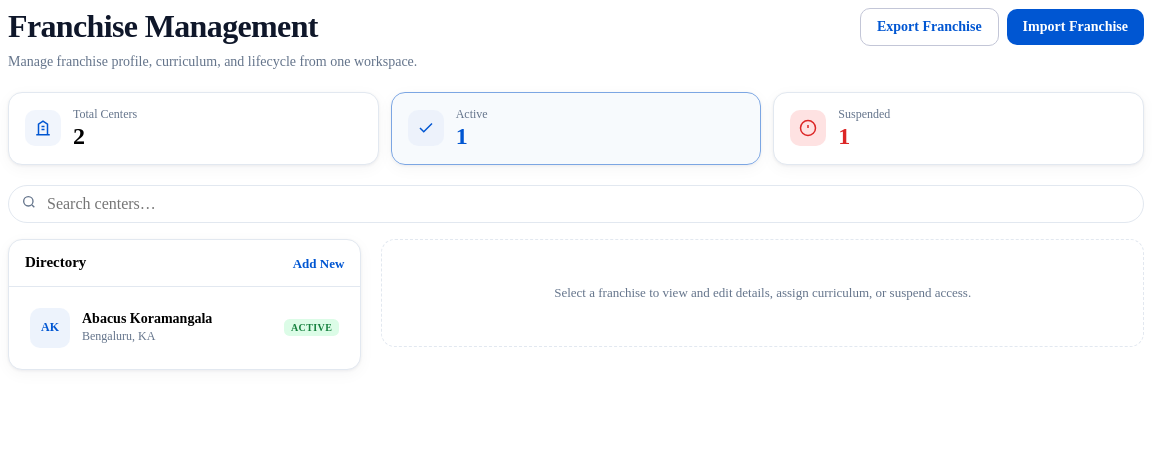
Scenario: CentersPage › regression_search_by_phone
Expected: the text "Abacus Koramangala" is shown, [82,311,212,326]
Click the button "Total Centers 2".
click(43, 128)  # box [8,92,379,165]
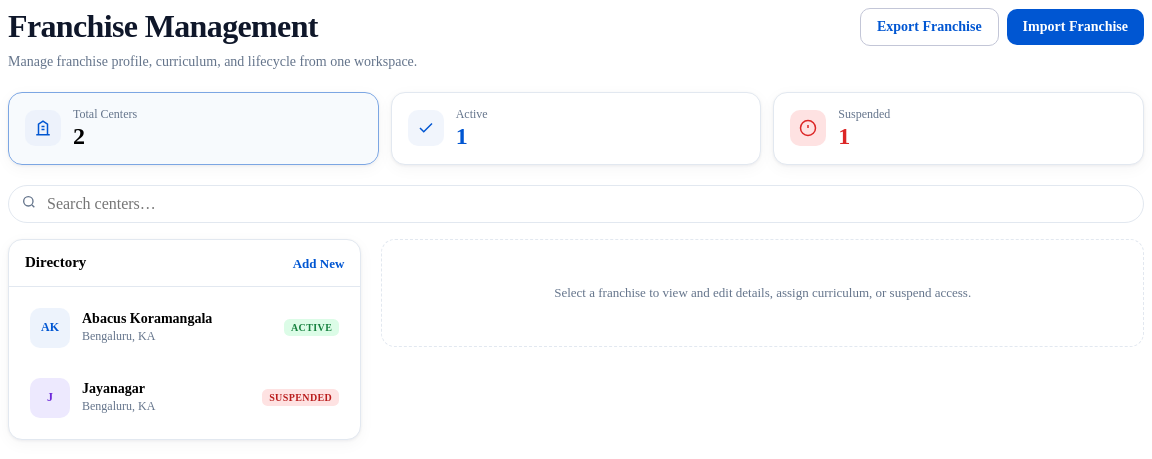
Type "90000" into the search field with placeholder "Search centers…".
click(588, 204); type("90000")  # box [45,194,1131,214]
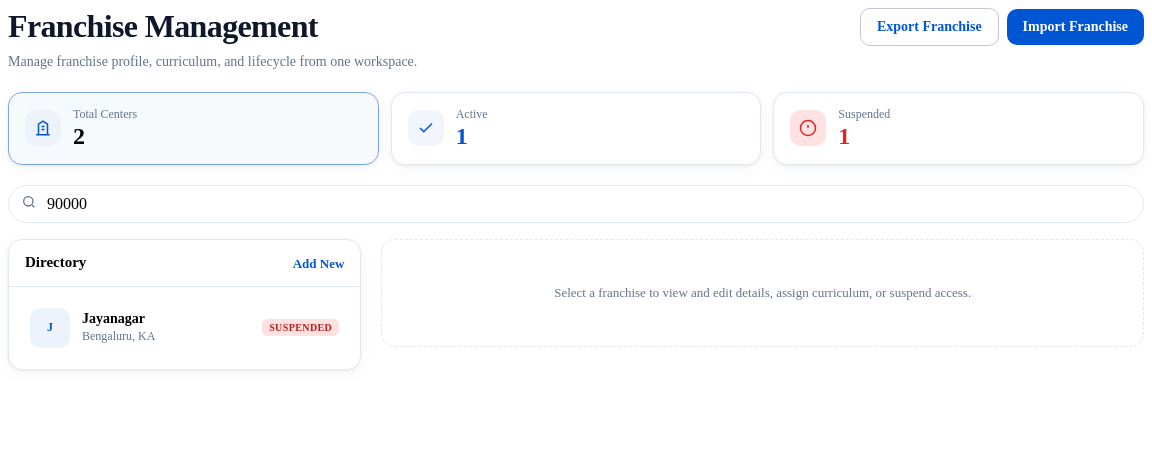
Result: the text "Jayanagar" is shown at [82,311,145,326]
Result: the button "Abacus Koramangala" is gone
